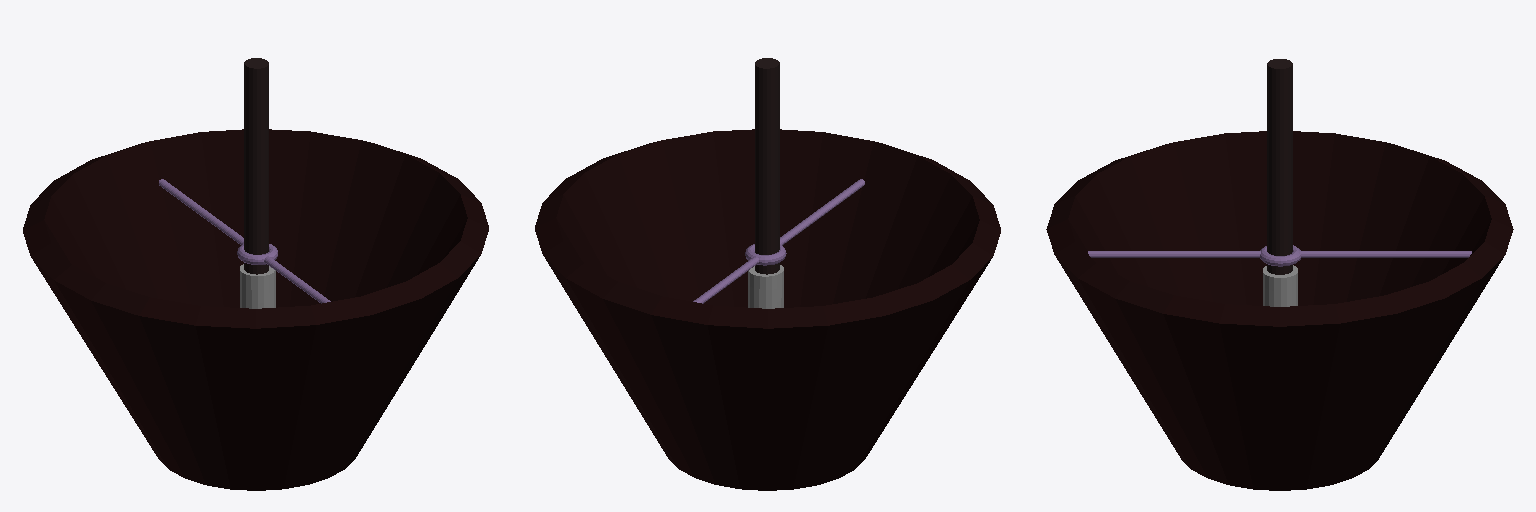
The model's file is ceilingLight.obj.
The picture shows the model from 3 angles: view 1: azimuth 30°, elevation 25°; view 2: azimuth 150°, elevation 25°; view 3: azimuth 270°, elevation 25°; orthographic projection.
Parts seen in each view (by area): view 1: Cone001, Cylinder001, Cylinder002, Tube001, Tube002; view 2: Cone001, Cylinder001, Cylinder002, Tube002, Tube001; view 3: Cone001, Cylinder001, Cylinder002, Tube002, Tube001.
Part boxes in pixels (bbox=[...]): Cone001: bbox=[23, 129, 488, 490]; Cylinder001: bbox=[244, 58, 268, 274]; Cylinder002: bbox=[240, 264, 275, 308]; Tube001: bbox=[159, 179, 243, 244]; Tube002: bbox=[264, 256, 330, 303]; Cone001: bbox=[535, 129, 1000, 490]; Cylinder001: bbox=[755, 58, 779, 274]; Cylinder002: bbox=[748, 265, 783, 308]; Tube002: bbox=[780, 179, 864, 245]; Tube001: bbox=[693, 257, 758, 303]; Cone001: bbox=[1046, 131, 1513, 490]; Cylinder001: bbox=[1267, 59, 1292, 274]; Cylinder002: bbox=[1263, 265, 1297, 306]; Tube002: bbox=[1088, 251, 1260, 257]; Tube001: bbox=[1300, 251, 1471, 257].
Size of the model in its own units: 18.89 by 17.18 by 18.89.